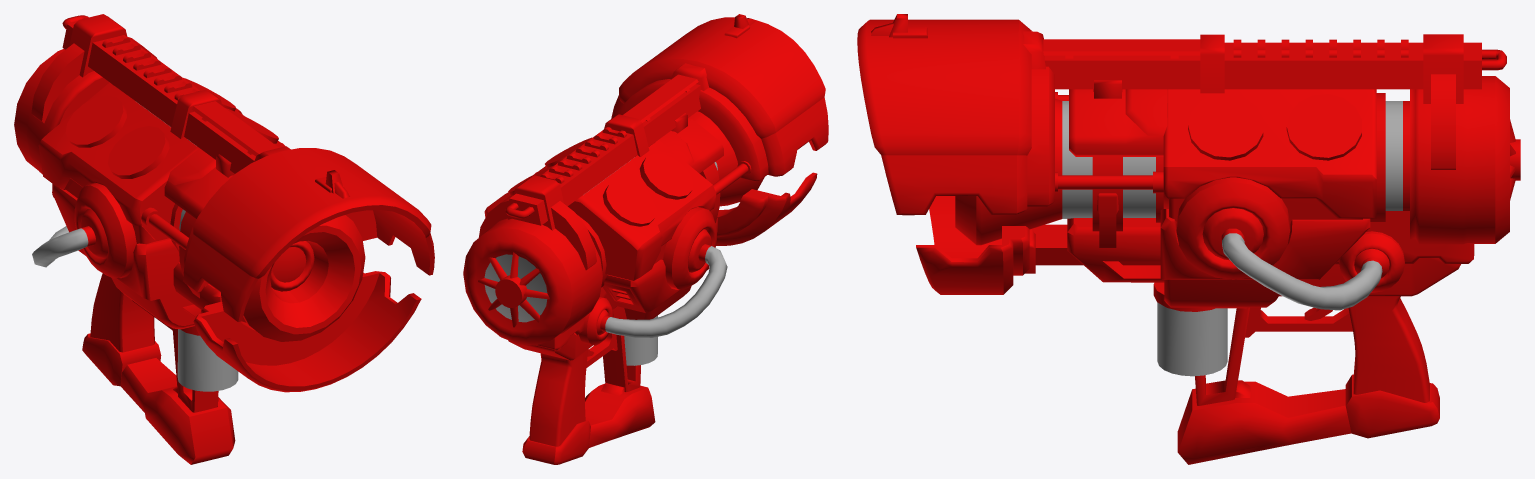
Rendered from Vaporizer.fbx.
The picture shows the model from 3 angles, left to right: view 1: azimuth 30°, elevation 25°; view 2: azimuth 150°, elevation 25°; view 3: azimuth 270°, elevation 25°; orthographic projection. The views are drawn at different scales.
Parts seen in each view (by area): view 1: Primary_Weapon, Canister_2; view 2: Primary_Weapon, Canister_2; view 3: Primary_Weapon, Canister_4.
Part boxes in pixels (<box>): Primary_Weapon: <box>14,14,434,464</box>; Canister_2: <box>177,326,222,391</box>; Primary_Weapon: <box>463,14,828,464</box>; Canister_2: <box>624,315,657,365</box>; Primary_Weapon: <box>857,14,1520,464</box>; Canister_4: <box>1153,284,1227,376</box>.
Bounding box in the file's own units: 29.18 × 39.76 × 54.55.
